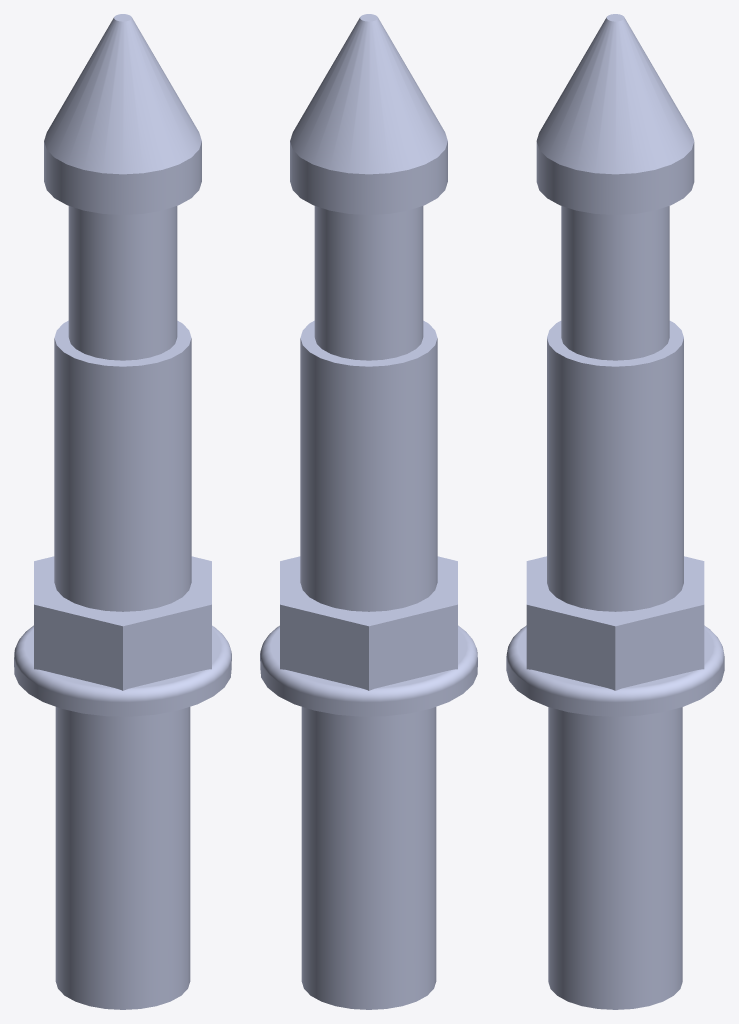
The model's file is Mini Post 10-32 Thread.fbx.
3 renders of one model, left to right at view 1: azimuth 30°, elevation 25°; view 2: azimuth 150°, elevation 25°; view 3: azimuth 270°, elevation 25°, orthographic.
Visible parts, largest first — view 1: Mini Post 10-32 Thread; view 2: Mini Post 10-32 Thread; view 3: Mini Post 10-32 Thread.
Boxes of the visible parts, box(x1,y1,x2,y2) form: Mini Post 10-32 Thread: box(14, 14, 231, 1009); Mini Post 10-32 Thread: box(260, 14, 477, 1009); Mini Post 10-32 Thread: box(506, 14, 724, 1009).
Bounding box in the file's own units: 0.7722 × 3.76 × 0.7722.
